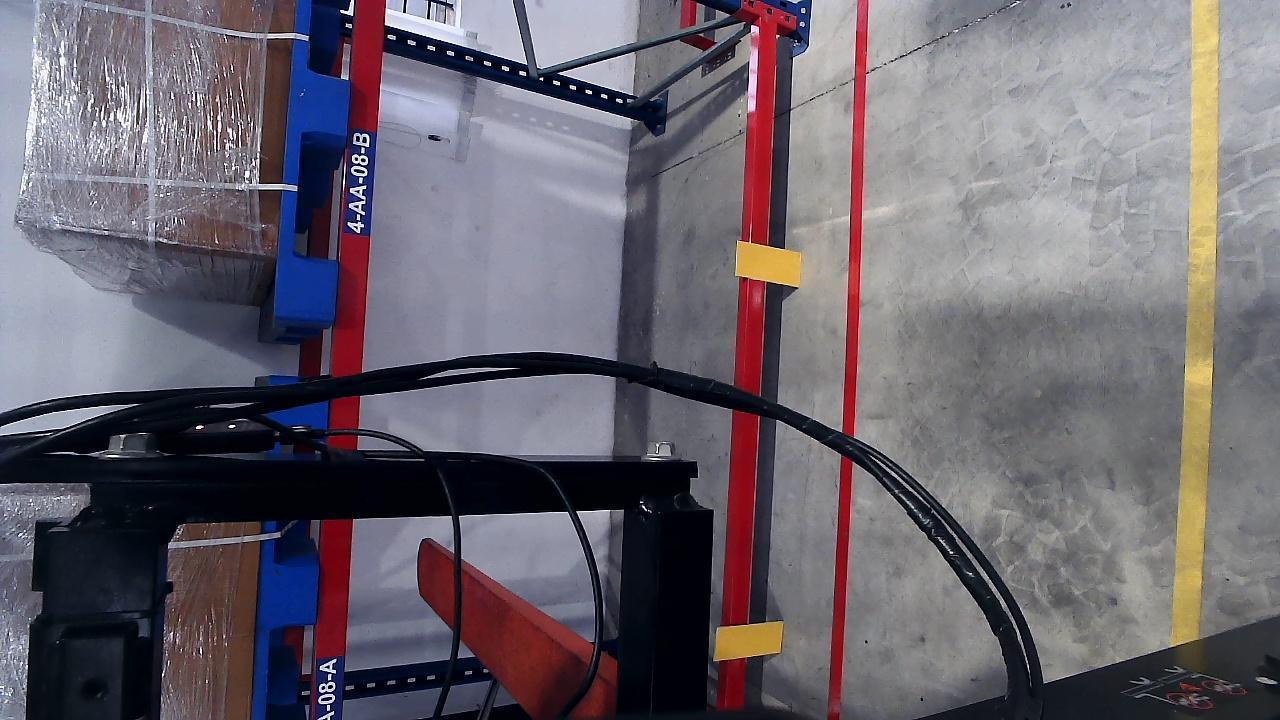red_line: (829, 9, 866, 715)
yellow_line: (1166, 0, 1221, 657)
